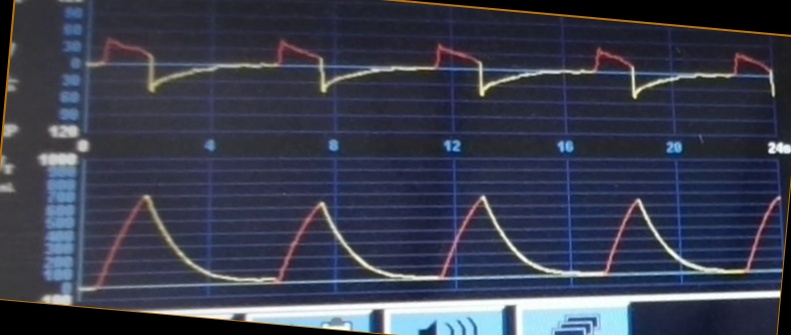Normal Flow: (89, 28, 777, 119)
Normal Volume: (87, 184, 780, 289)
